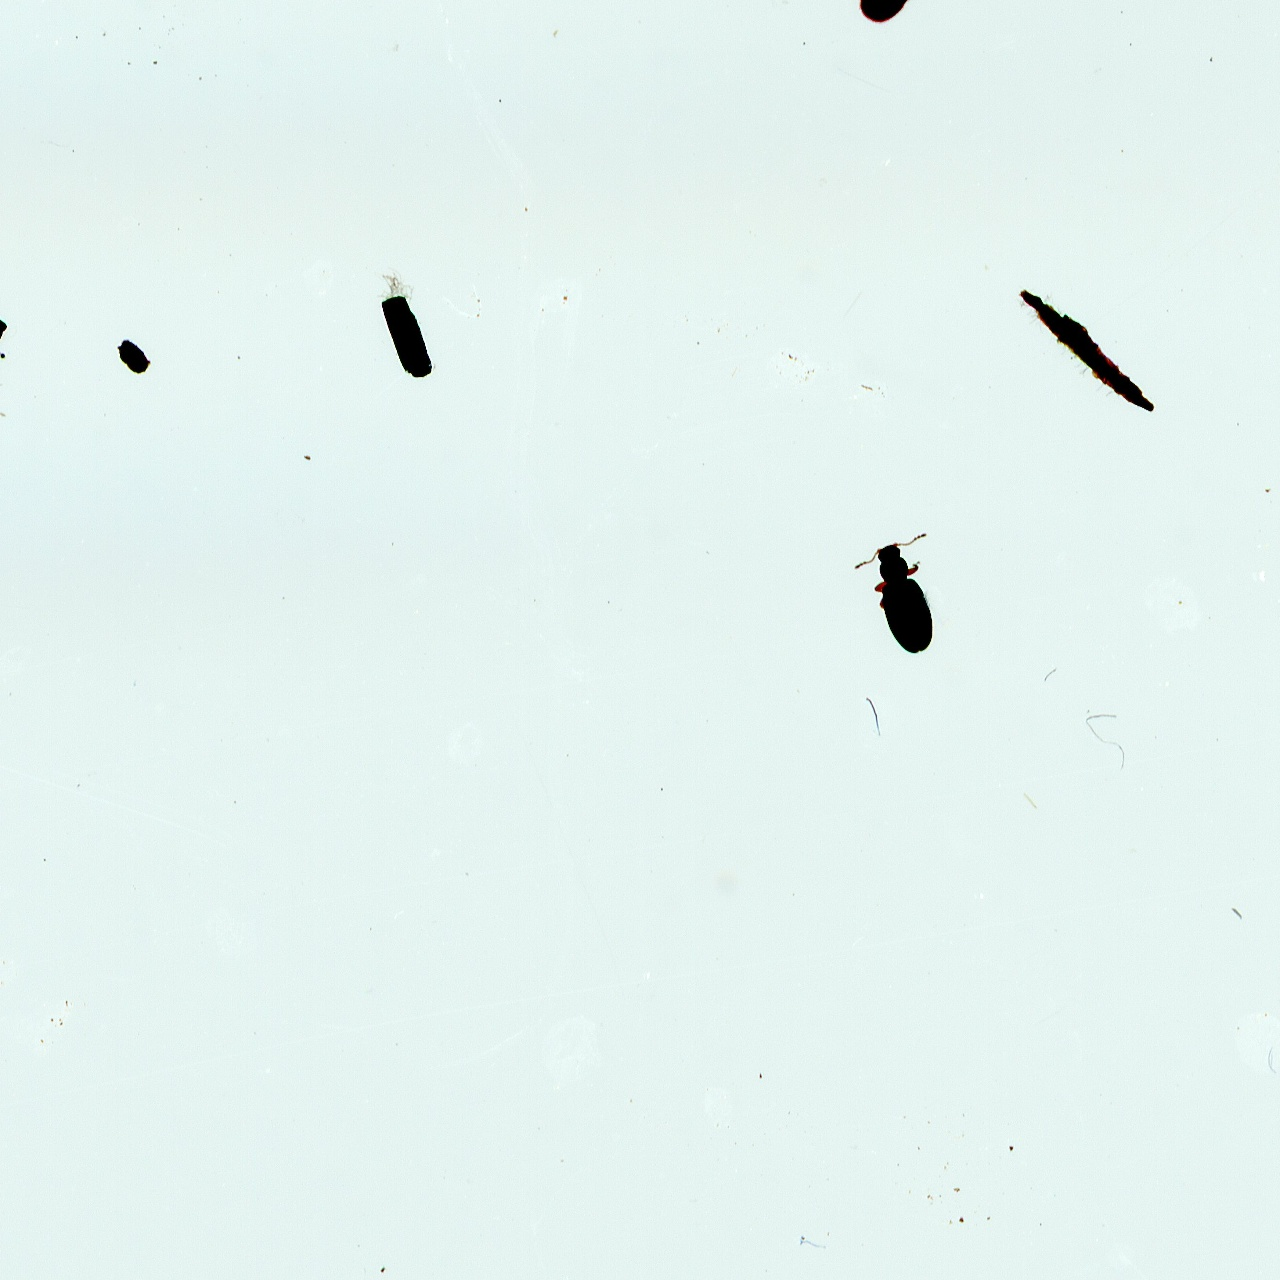arthropod: (845, 524, 975, 670), (852, 0, 931, 26)
